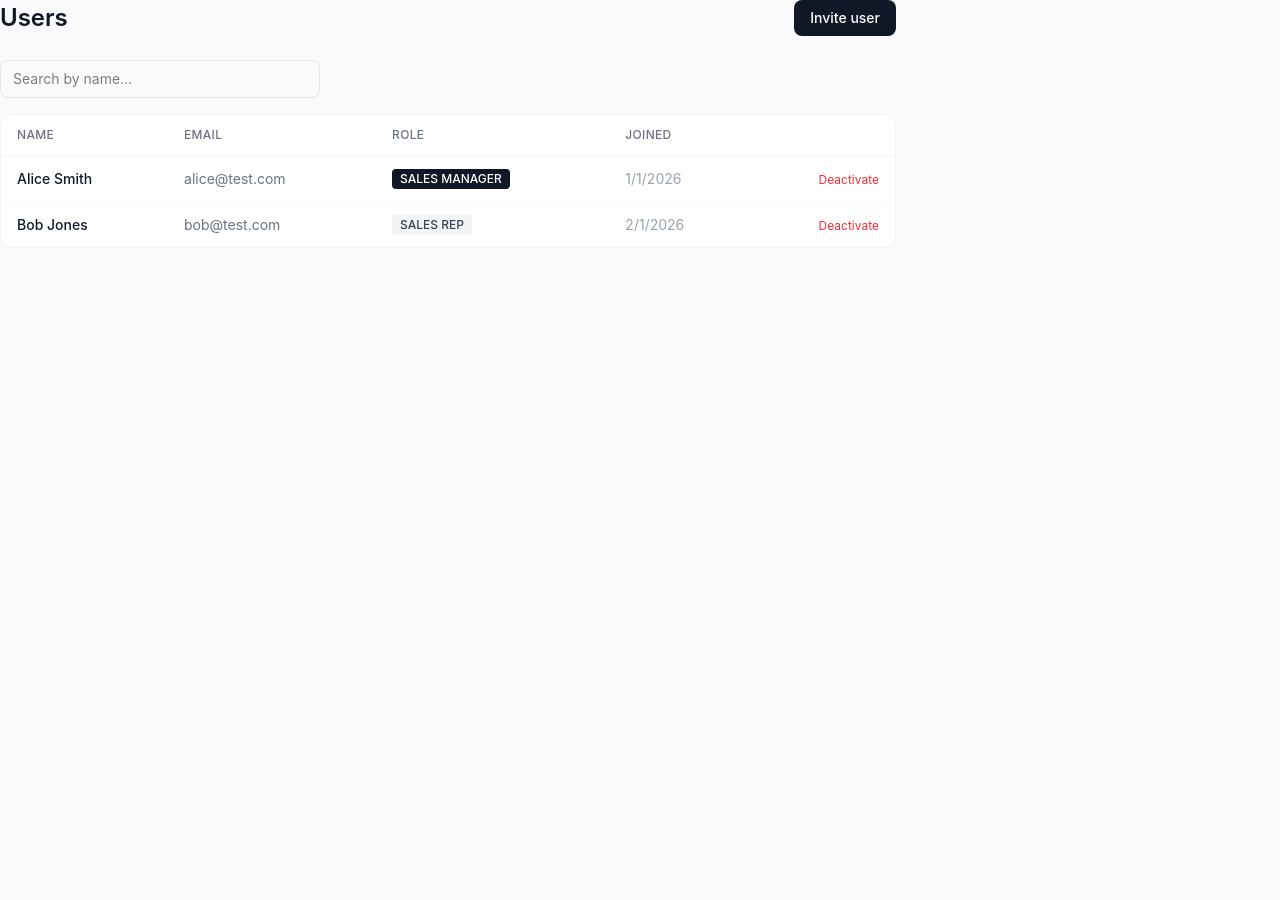
Test case: UsersPage › closes deactivate dialog when Cancel is clicked
This screenshot has width=1280, height=900.
Expected: the text "Alice Smith" is shown, x1=1 y1=156 x2=168 y2=202
Click the button "Deactivate" in the row of "Alice Smith". click: (849, 180)
box: x1=819 y1=172 x2=879 y2=188
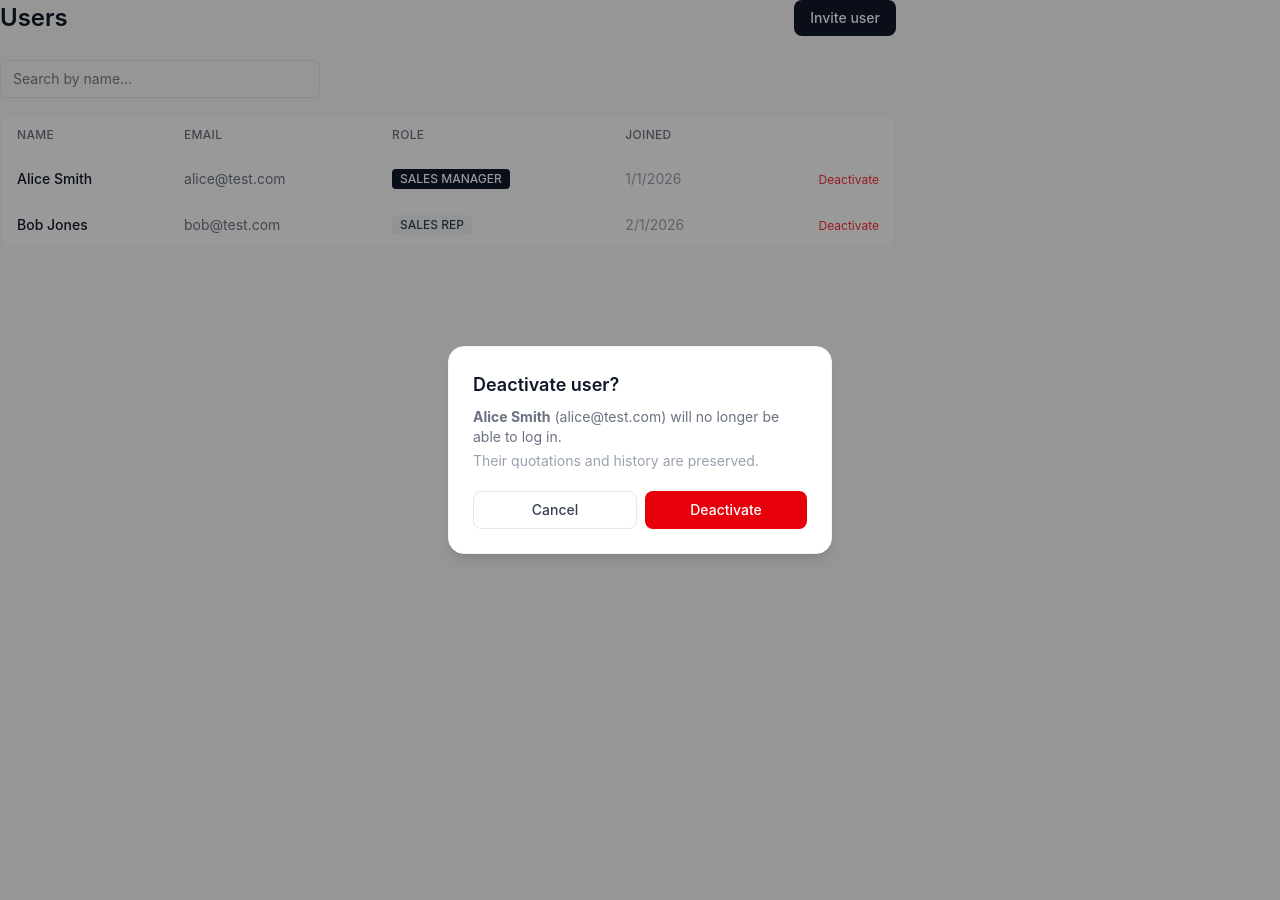
Now the heading "Deactivate user?" is shown, box x1=473 y1=374 x2=619 y2=395
Click the button "Cancel". click: (555, 510)
box: x1=473 y1=491 x2=637 y2=529
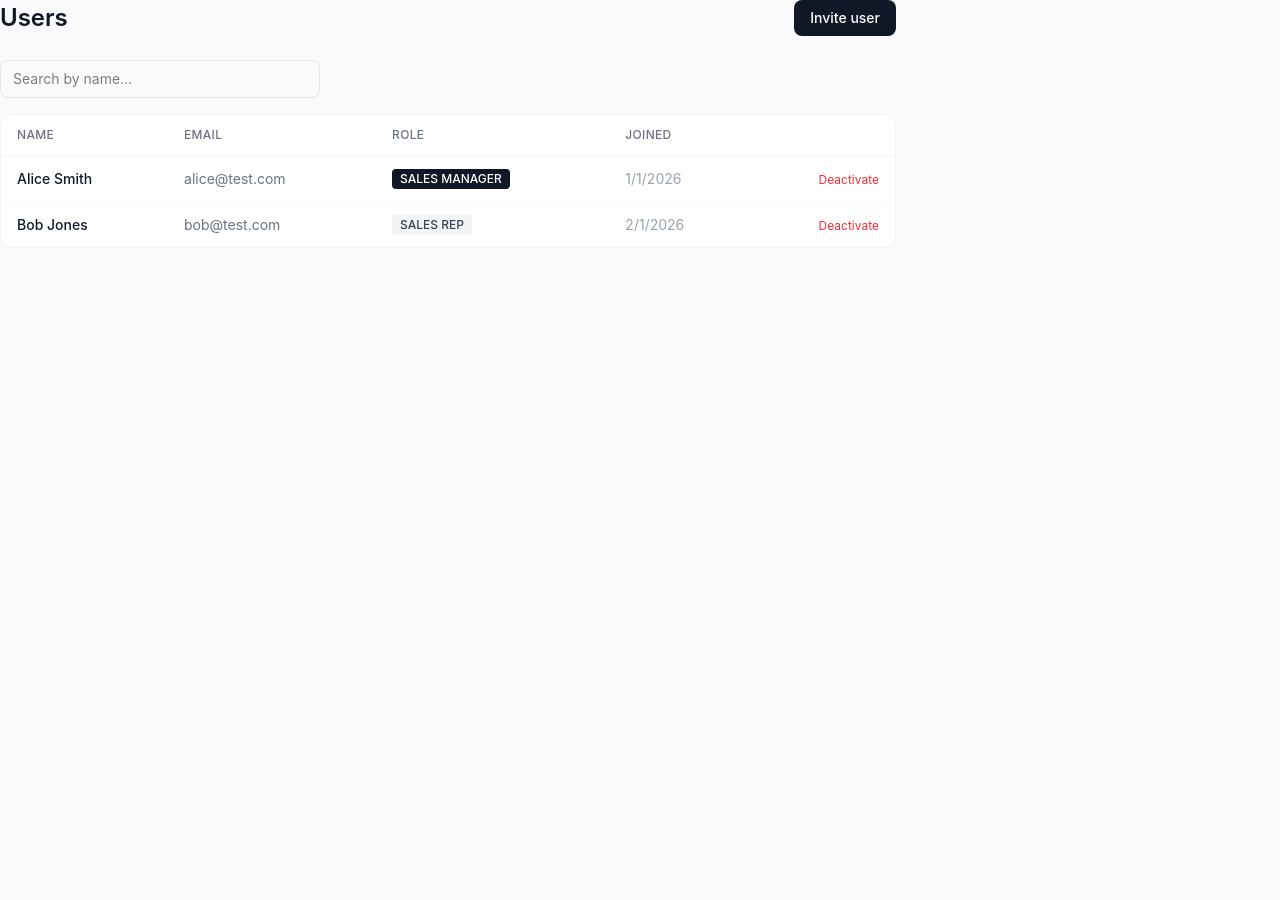
Now the heading "Deactivate user?" is gone
